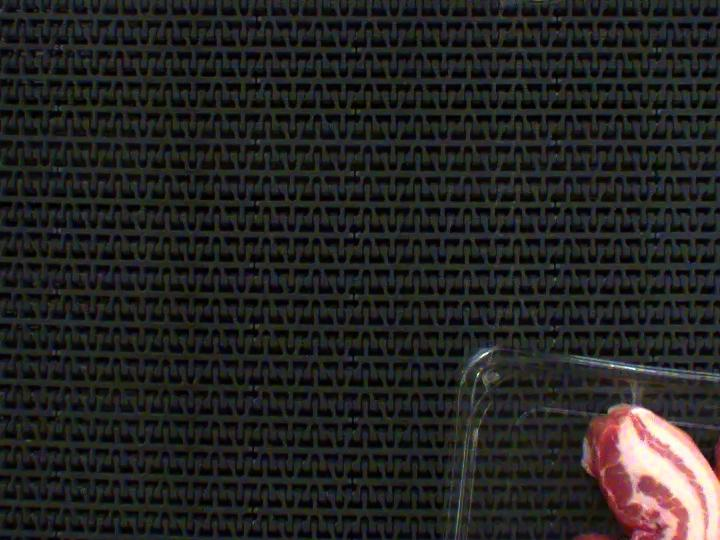packaging-error: (610, 371, 647, 414)
